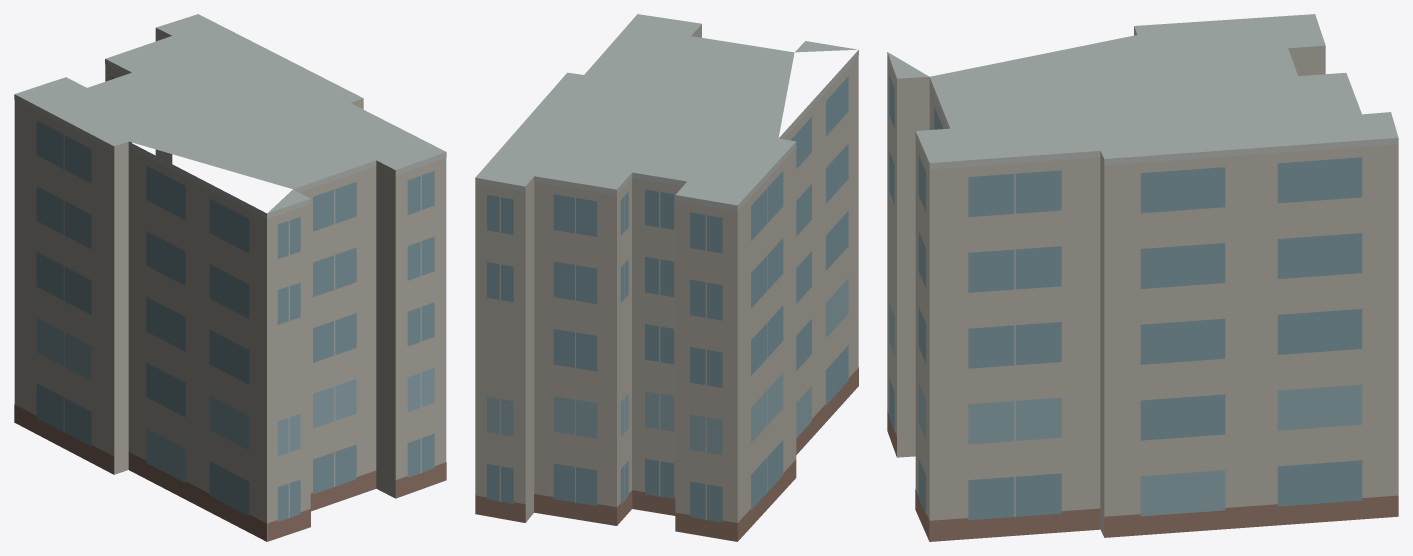
Rendered from survey-upis-32912425.glb.
3 renders of one model, left to right at view 1: azimuth 30°, elevation 25°; view 2: azimuth 150°, elevation 25°; view 3: azimuth 270°, elevation 25°, orthographic. The views are drawn at different scales.
Parts seen in each view (by area): view 1: survey-upis-32912425.tmp; view 2: survey-upis-32912425.tmp; view 3: survey-upis-32912425.tmp.
Part boxes in pixels (x1,y1,x2,y2): survey-upis-32912425.tmp: (14,14,446,541); survey-upis-32912425.tmp: (475,14,858,541); survey-upis-32912425.tmp: (887,14,1398,541).
Size of the model in its own units: 11.99 by 14.2 by 17.38.
